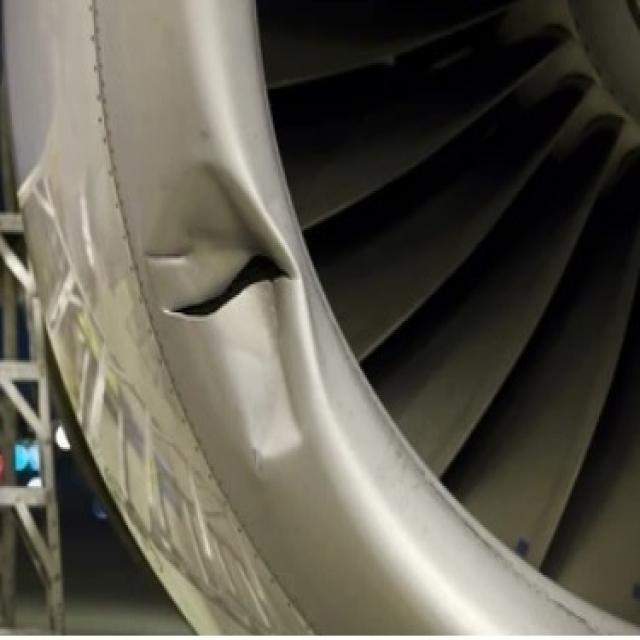crack: (162, 253, 297, 327)
